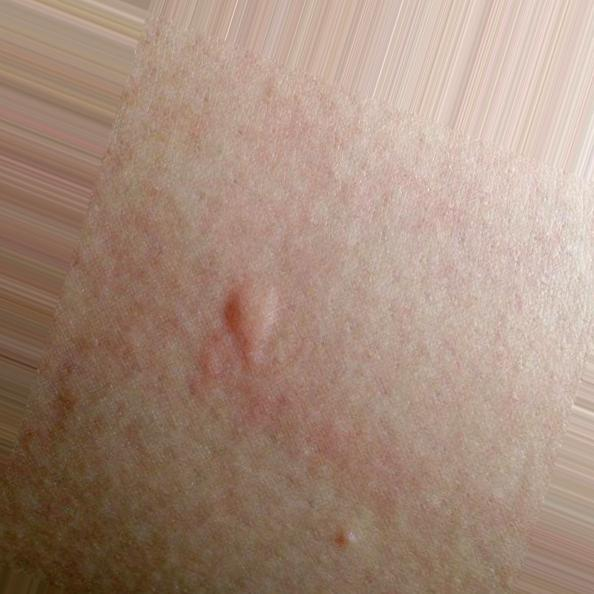Mosquito: (206, 275, 290, 376)
